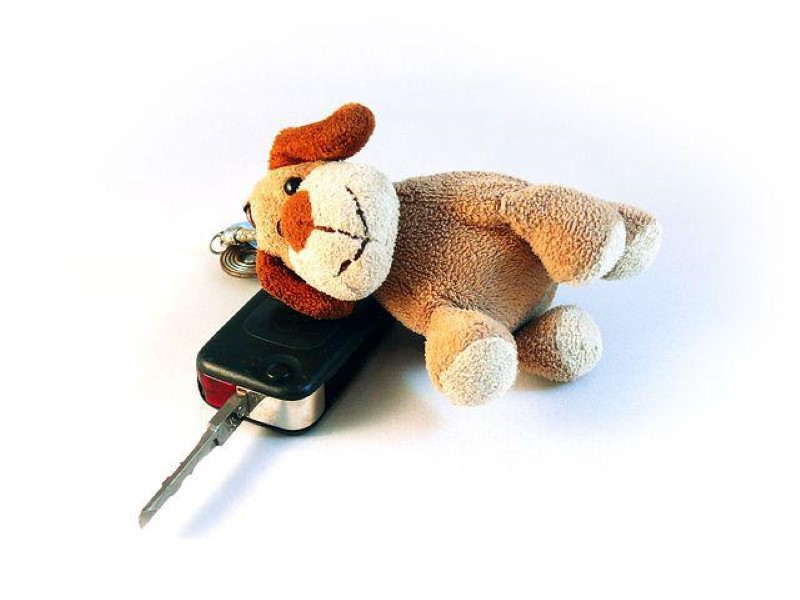carkey: (134, 264, 391, 535)
